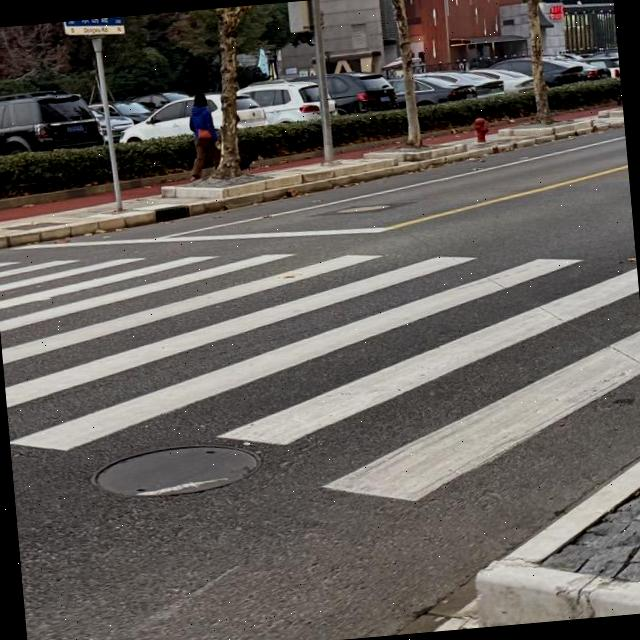curb: (0, 120, 623, 248), (474, 463, 640, 626), (162, 159, 395, 199), (0, 184, 110, 209), (122, 173, 187, 189), (346, 137, 403, 153), (256, 151, 318, 164)
